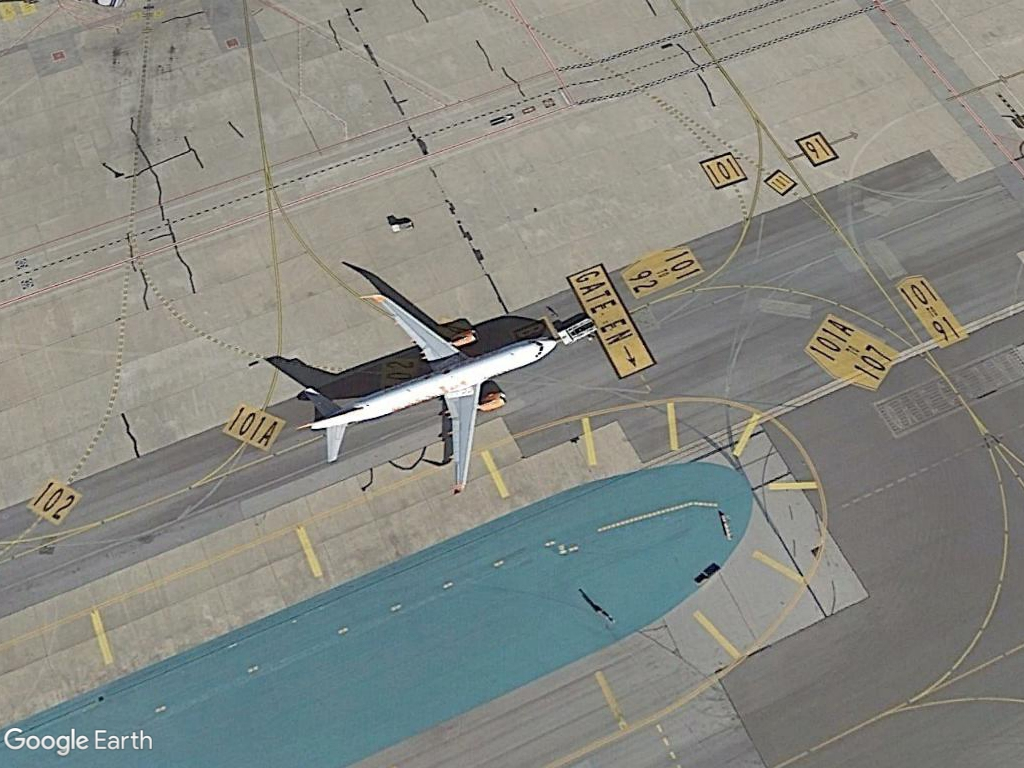airliner: (297, 286, 556, 501)
pushbacktruck: (558, 310, 600, 349)
